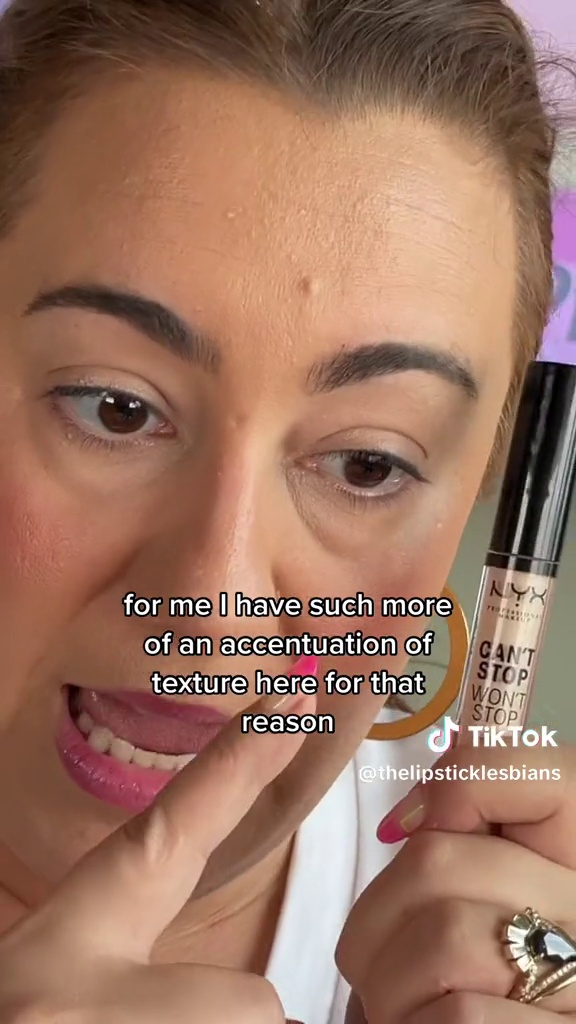train' :'yolo_data/train/images',: (437, 352, 575, 766)
